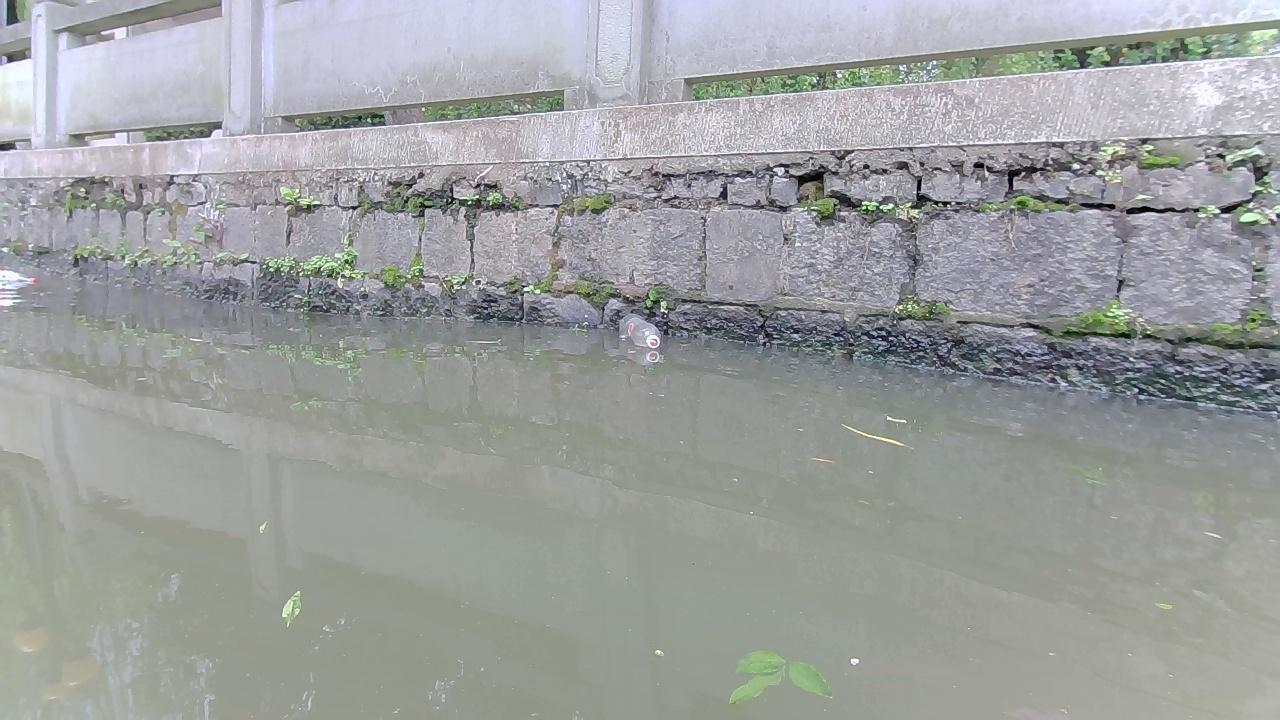bottle: (618, 311, 660, 347), (0, 267, 37, 282)
